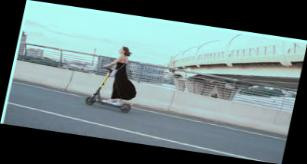nonhelmet: (82, 40, 148, 114)
